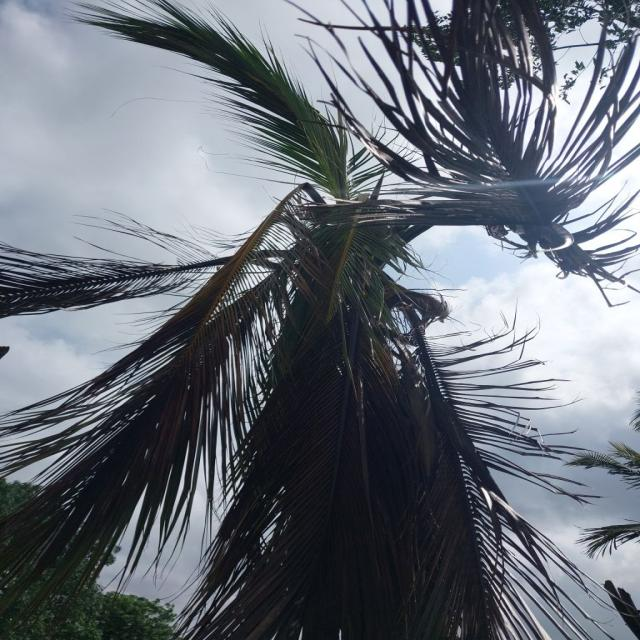bud root dropping: (5, 0, 637, 640)
